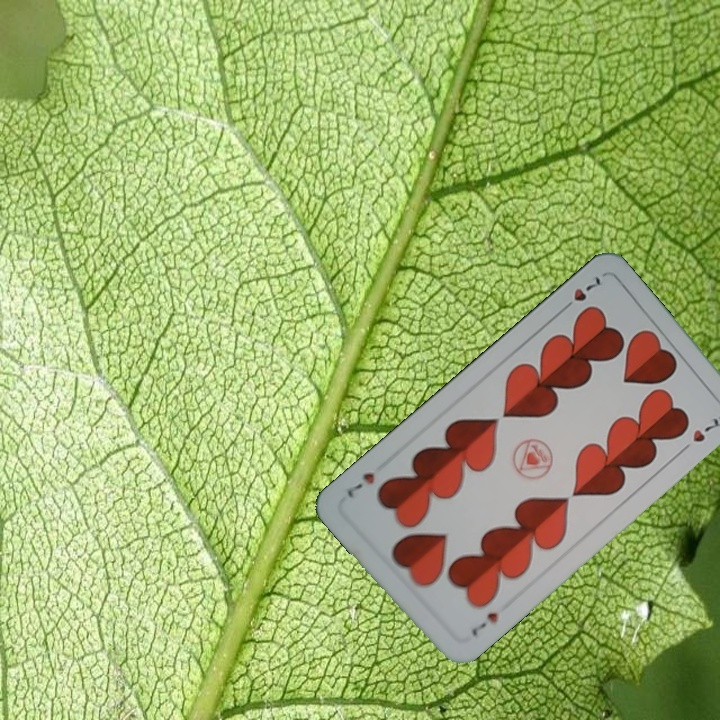H7: (556, 271, 604, 315), (467, 608, 501, 639)
